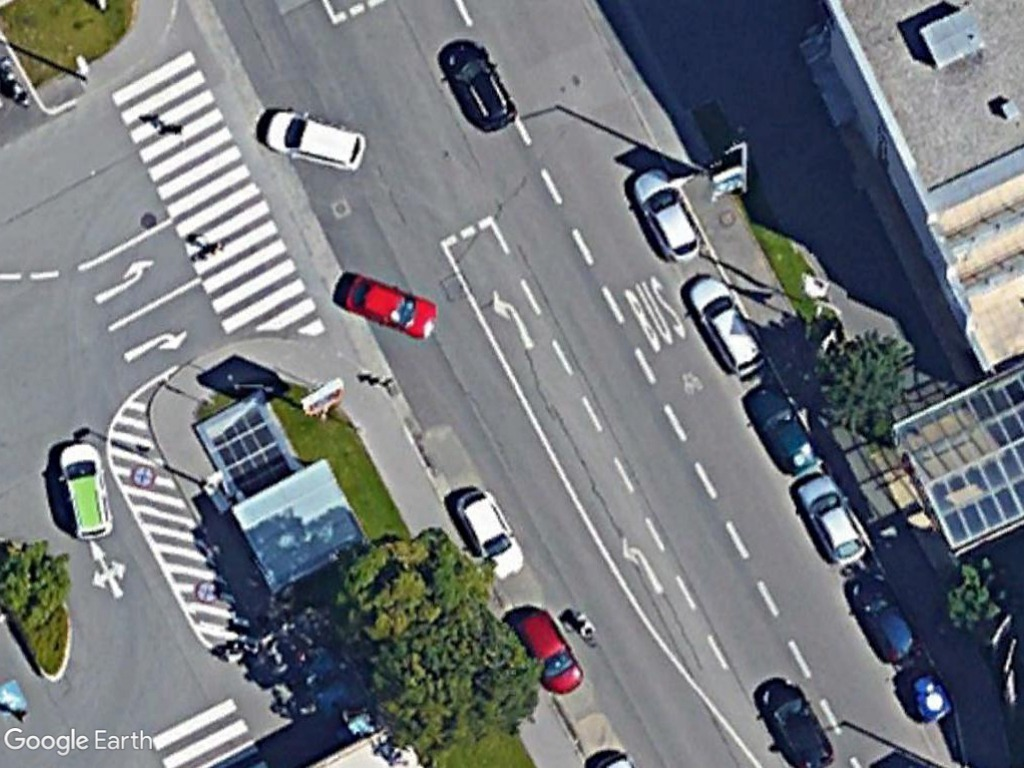car: (679, 273, 769, 378), (790, 465, 870, 569), (625, 164, 707, 265), (435, 39, 520, 135), (742, 378, 823, 478), (841, 565, 918, 668), (258, 103, 371, 173), (448, 483, 525, 584), (506, 603, 587, 699), (753, 676, 835, 768), (335, 273, 442, 341), (52, 440, 115, 543)
